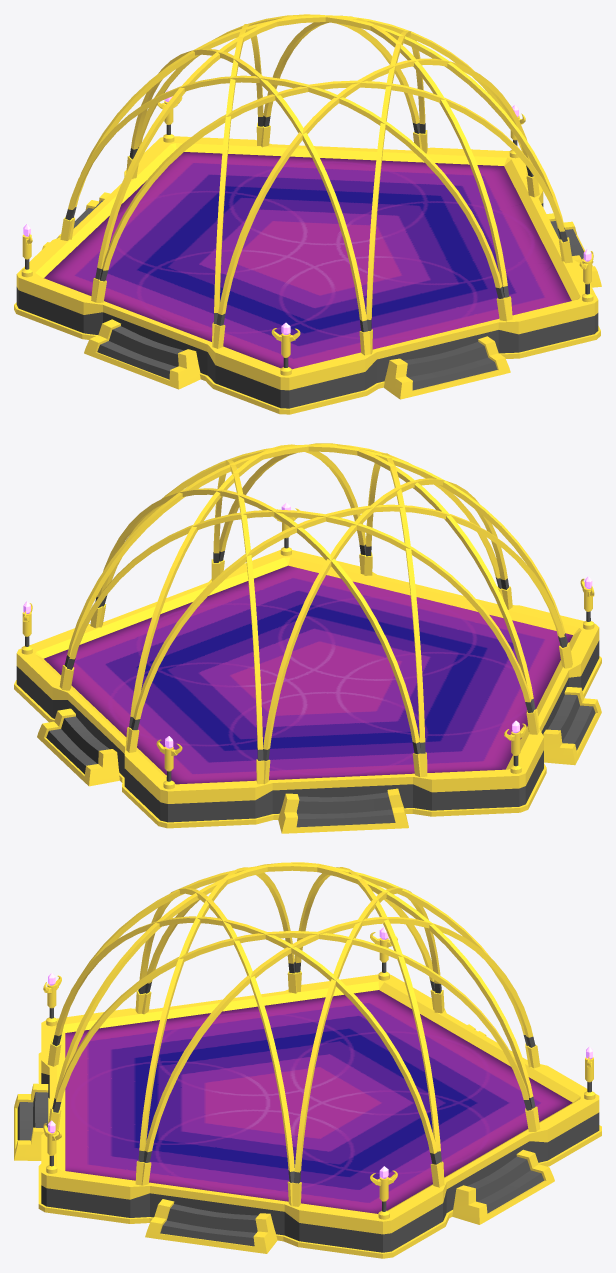
Rendered from mage_quintagon_2.fbx.
3 renders of one model, top to bottom at view 1: azimuth 30°, elevation 25°; view 2: azimuth 150°, elevation 25°; view 3: azimuth 270°, elevation 25°, orthographic.
Parts seen in each view (by area): view 1: mat, cage, mage_quintagon_2, stairs, scepters; view 2: mat, cage, mage_quintagon_2, stairs, scepters; view 3: mat, cage, mage_quintagon_2, stairs, scepters.
Boxes of the visible parts, x1,y1,x2,y2 form: mat: (44, 152, 571, 369); cage: (60, 14, 572, 355); mage_quintagon_2: (14, 136, 600, 414); stairs: (42, 192, 601, 399); scepters: (21, 89, 593, 375); mat: (44, 565, 572, 784); cage: (59, 443, 572, 784); mage_quintagon_2: (14, 550, 601, 828); stairs: (37, 687, 601, 833); scepters: (21, 502, 594, 789); mat: (65, 990, 572, 1213); cage: (47, 862, 540, 1206); mage_quintagon_2: (38, 974, 601, 1258); stairs: (14, 1024, 554, 1253); scepters: (43, 927, 595, 1219).
Size of the model in its own units: 22.4 by 9.82 by 22.24.
Materials: 4 (1 with a texture image).
